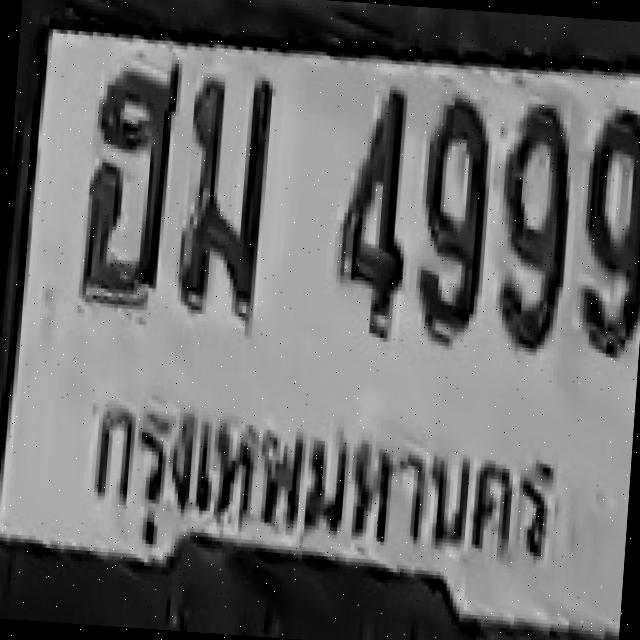0: (496, 96, 576, 259)
4: (328, 82, 416, 338), (330, 82, 416, 306)
42MorMa: (174, 70, 275, 316), (176, 70, 275, 294)
53HorNokHook: (76, 59, 180, 310)
9: (411, 94, 494, 346), (572, 105, 640, 357), (490, 150, 570, 353), (572, 140, 640, 359)
Bangkok: (69, 386, 580, 584)
